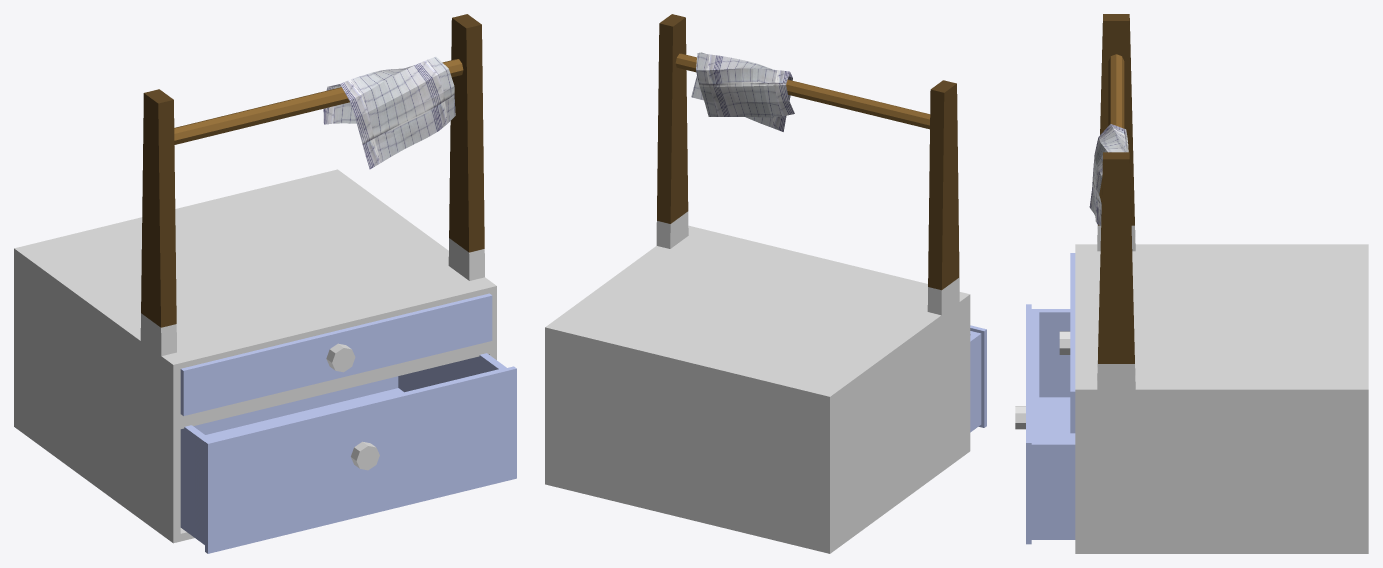
File: TowelShelf.glb
The picture shows the model from 3 angles, left to right: view 1: azimuth 30°, elevation 25°; view 2: azimuth 150°, elevation 25°; view 3: azimuth 270°, elevation 25°; orthographic projection. The views are drawn at different scales.
Parts seen in each view (by area): view 1: Cylinder.001; view 2: Cylinder.001; view 3: Cylinder.001.
Boxes of the visible parts, x1,y1,x2,y2 form: Cylinder.001: (14, 14, 516, 553); Cylinder.001: (545, 14, 986, 553); Cylinder.001: (1015, 14, 1368, 553).
Bounding box in the file's own units: 1.47 × 1.86 × 1.51.
5 materials, 1 textured.
